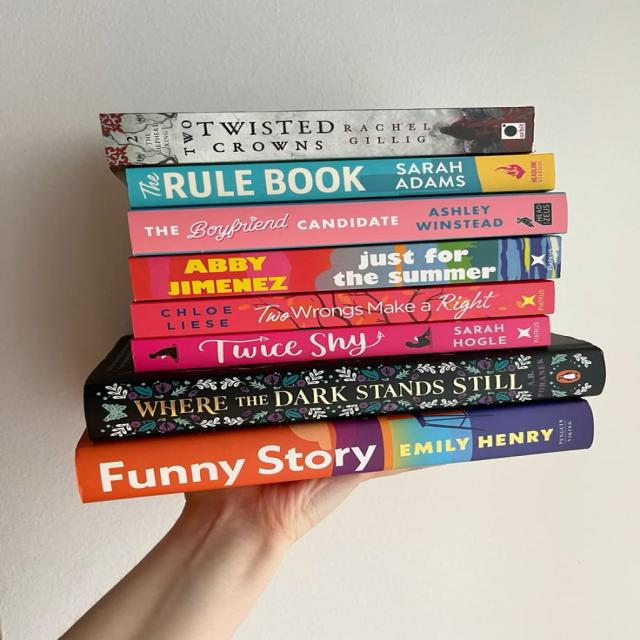book: (84, 336, 604, 440), (76, 399, 593, 503), (130, 236, 560, 301), (129, 192, 567, 254), (106, 106, 534, 166), (131, 281, 554, 338), (125, 153, 555, 208), (131, 316, 550, 371)
